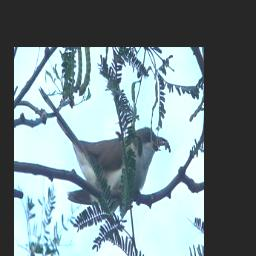Cuckoo: (35, 83, 170, 221)
